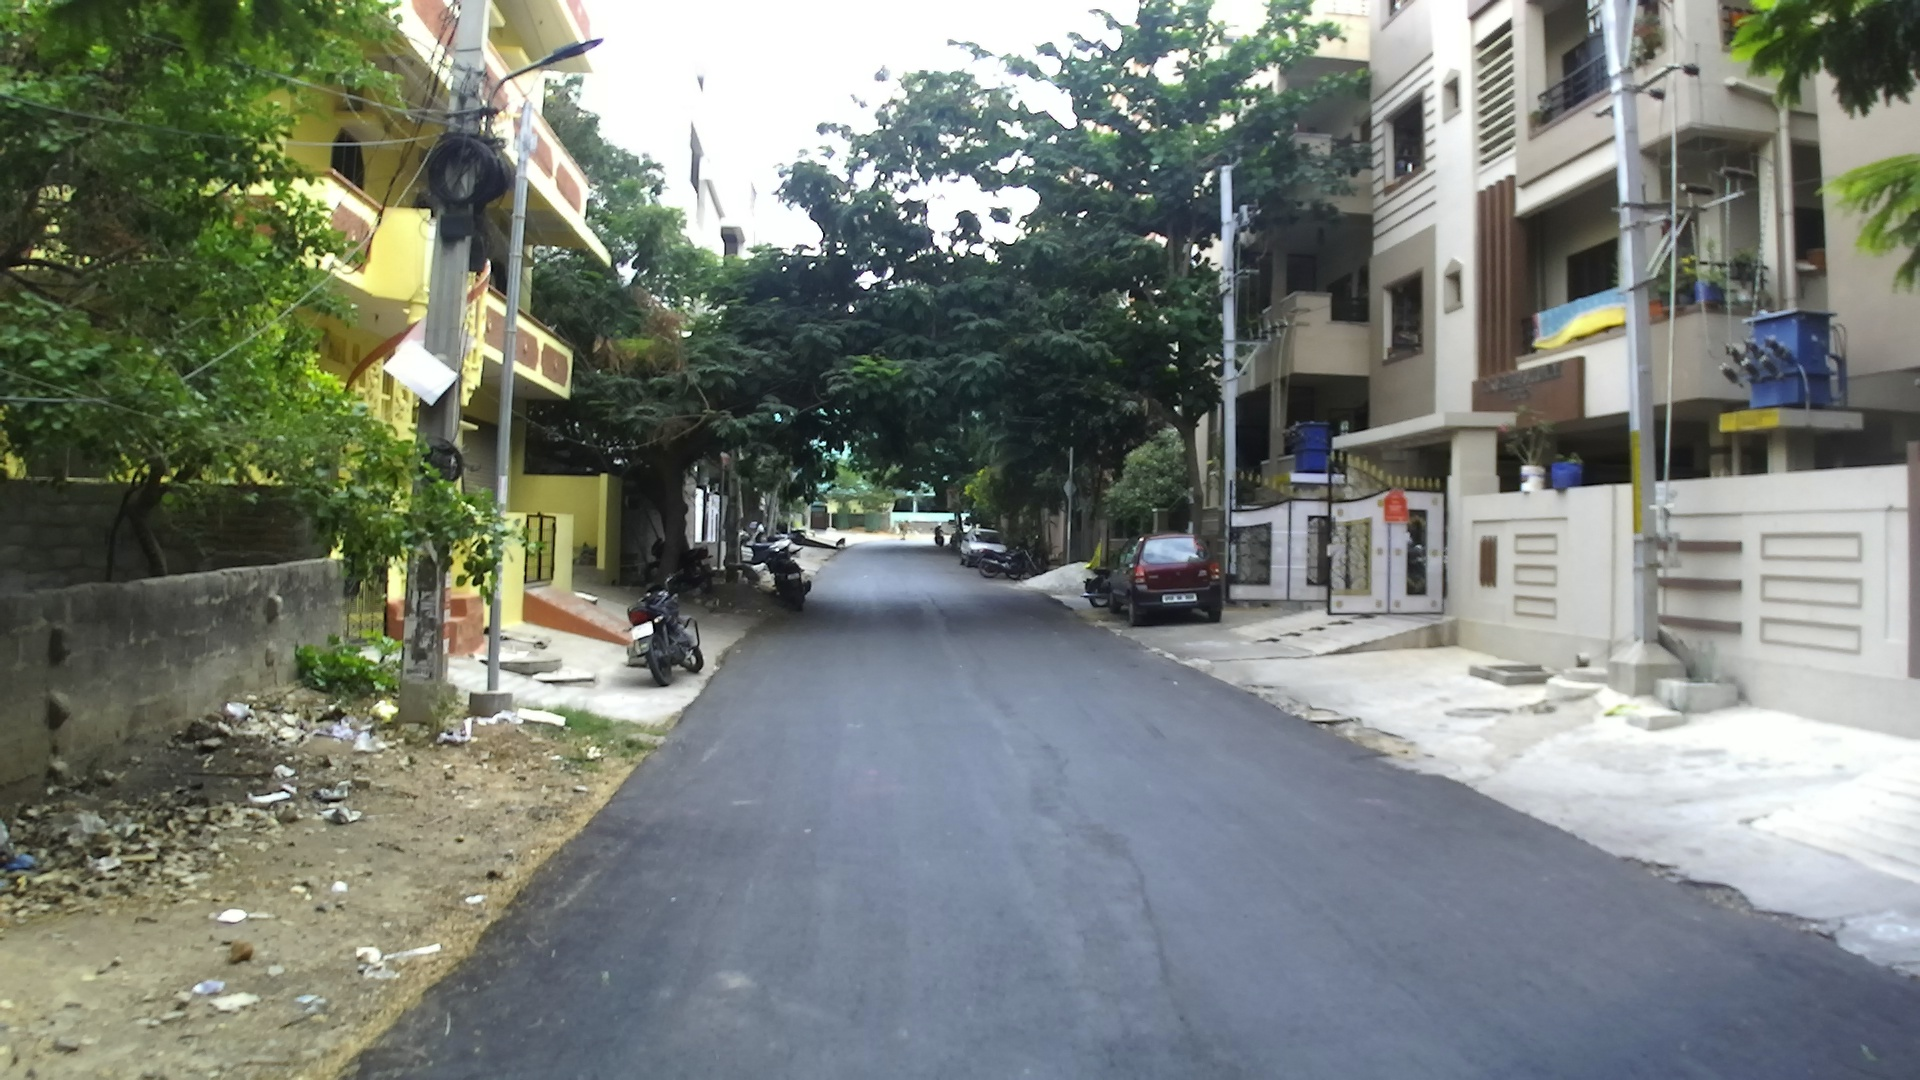vehicle: (1116, 531, 1226, 622), (626, 583, 704, 683), (961, 533, 1011, 574)
